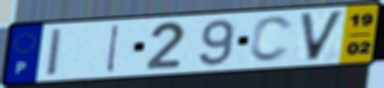2: (144, 20, 190, 72)
9: (196, 18, 238, 67)
C: (246, 14, 296, 65)
I: (45, 26, 65, 78), (104, 23, 122, 75)
V: (297, 8, 348, 64)
